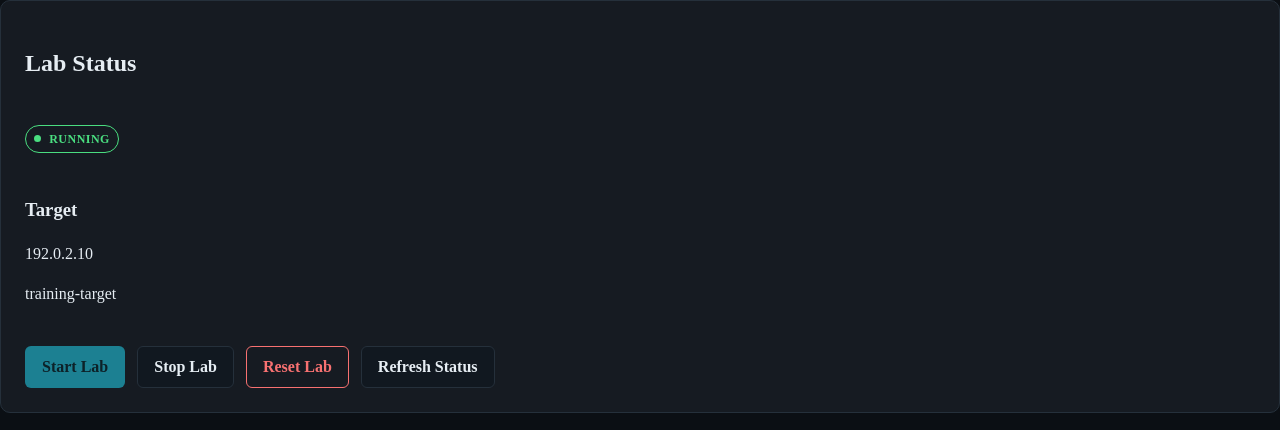
Test case: stops the lab and clears target
expect the text "RUNNING" is shown: met, box [25,125,119,153]
What coordinates should you click on to do the following:
click the button "Stop Lab"
I would click on:
 (186, 367)
Its box is [137,346,234,388].
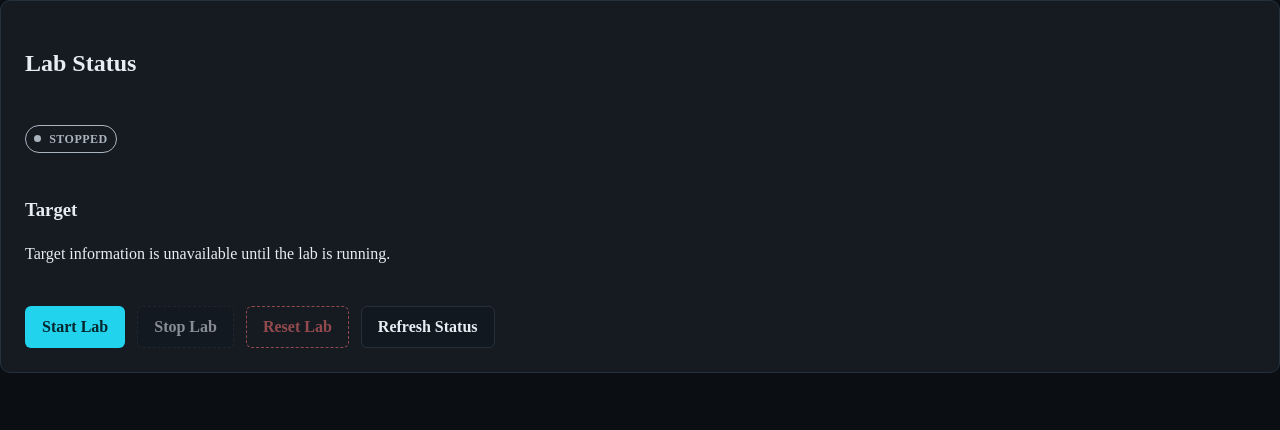
expect the text "STOPPED" is shown: met, box [25,125,117,153]
expect the text "192.0.2.10" is gone: met
